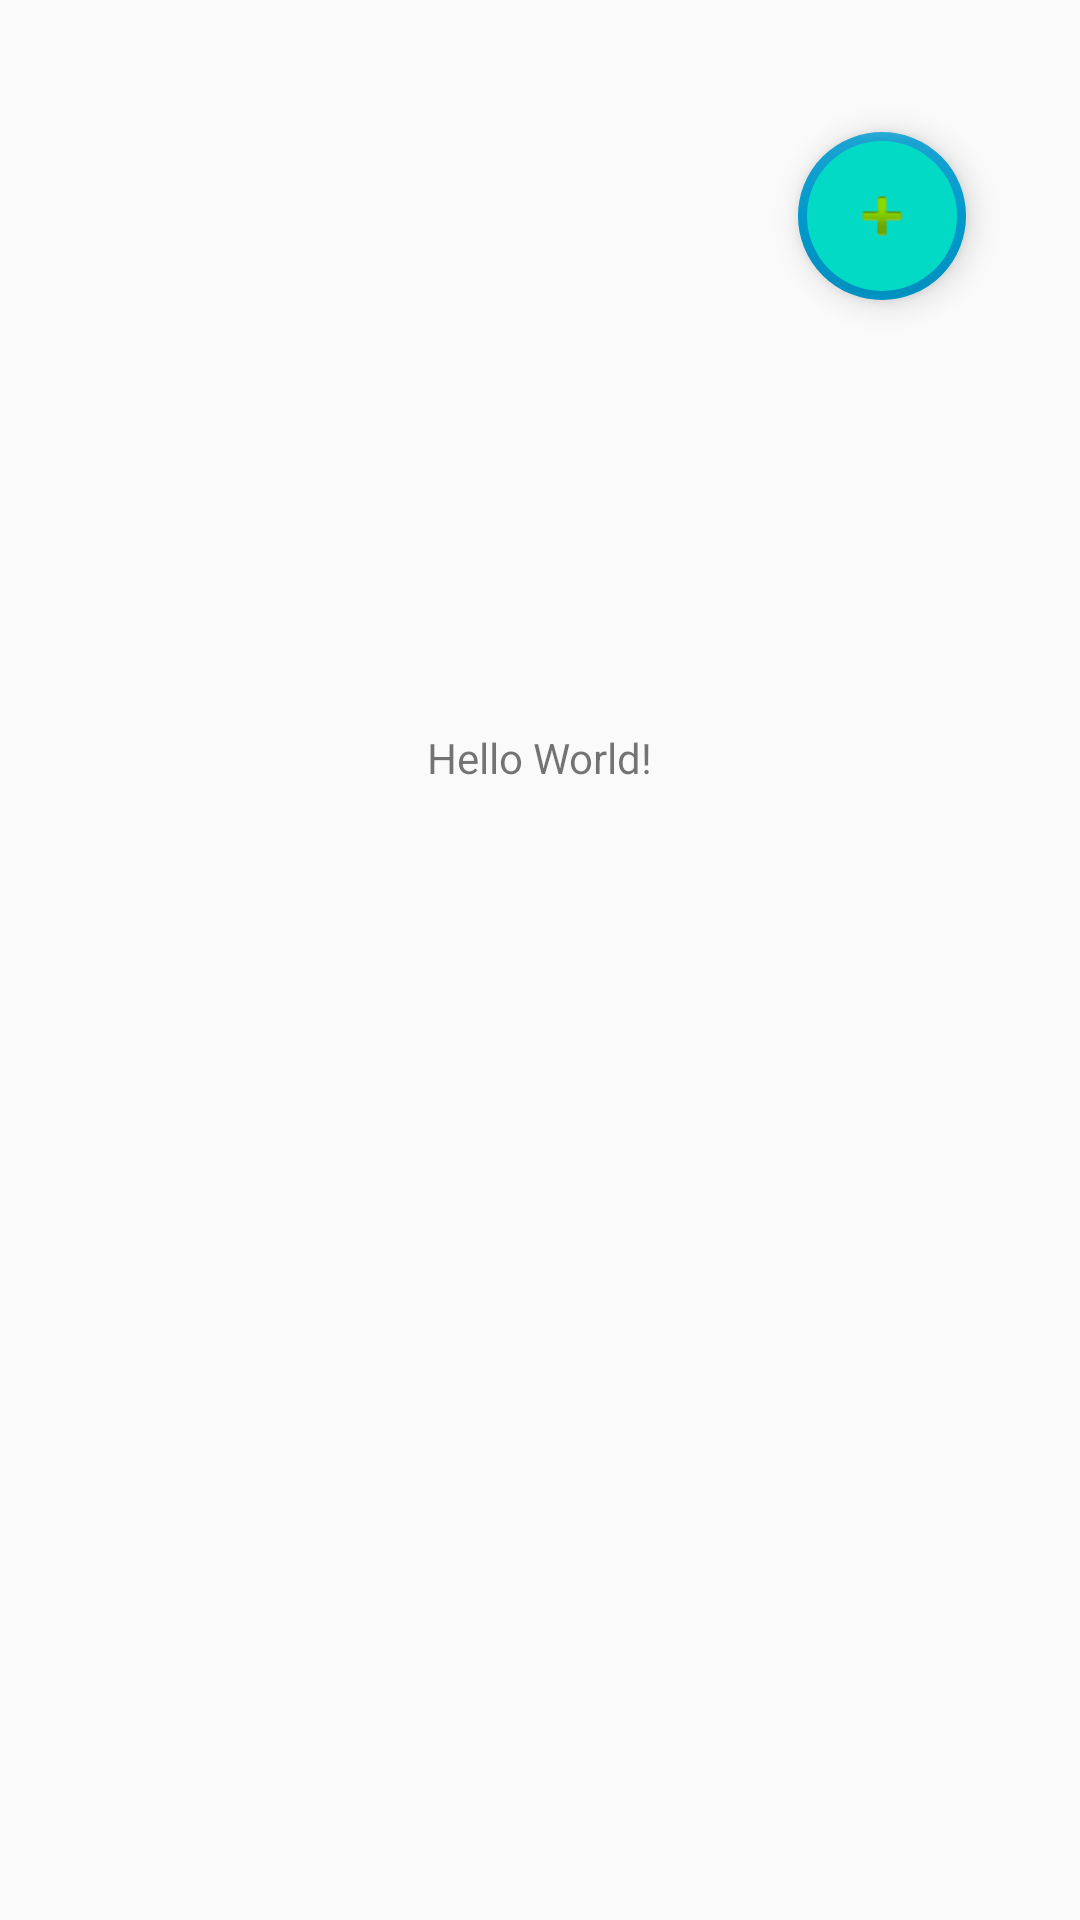

Screen size 1080×1920. Icon name, then its center in pixels as (x=x, y=y):
add: (x=882, y=216)
